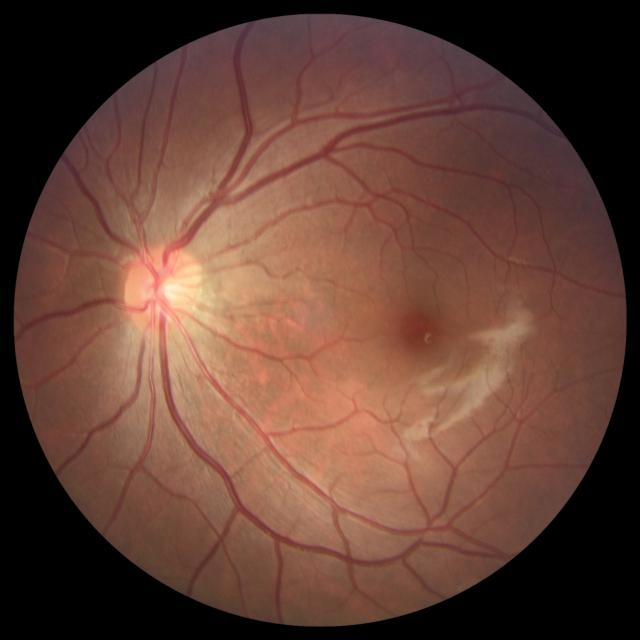OC: (150, 273, 180, 304)
OD: (124, 246, 203, 339)
